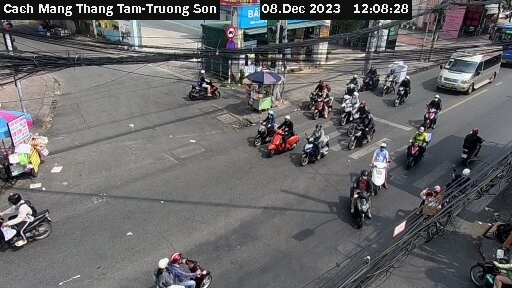car: (438, 47, 505, 94)
motorbike: (335, 172, 391, 229), (146, 248, 224, 288), (1, 191, 51, 253), (358, 141, 402, 186), (396, 123, 440, 167), (189, 71, 230, 107), (460, 121, 490, 168), (298, 129, 338, 163), (412, 97, 451, 129), (387, 72, 419, 108), (266, 124, 300, 154), (248, 112, 281, 142), (310, 91, 337, 120), (376, 62, 402, 92), (354, 65, 381, 88)
